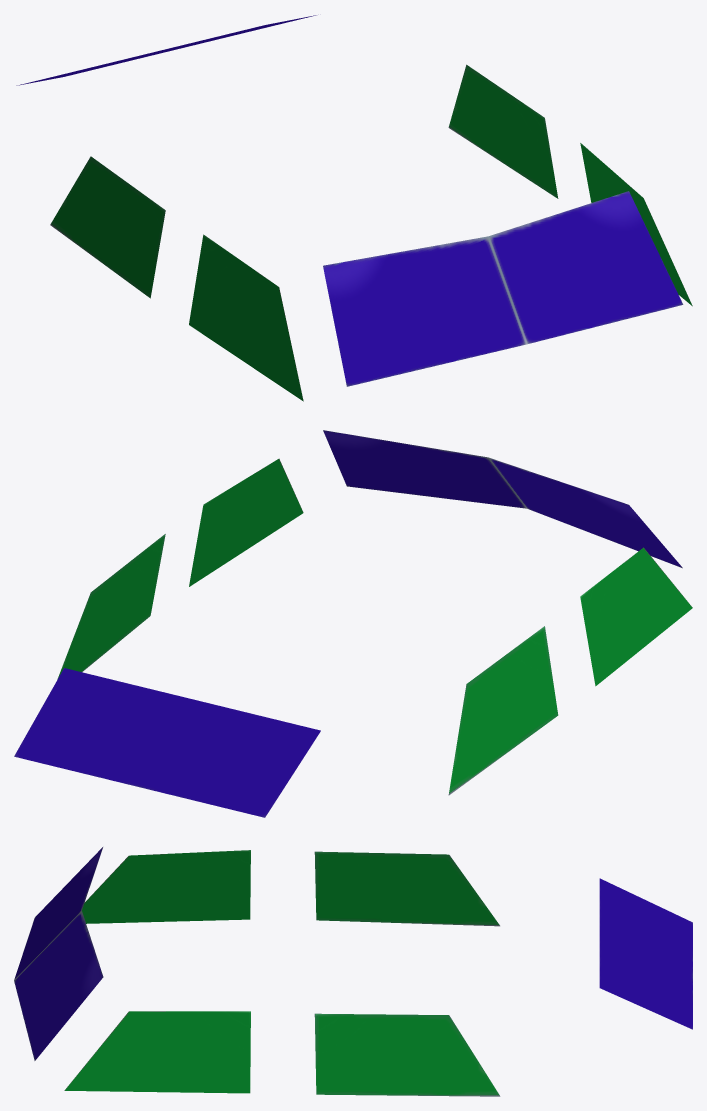
File: vehicle_windows.obj
3 views of the same model, one above another, from view 1: azimuth 30°, elevation 25°; view 2: azimuth 150°, elevation 25°; view 3: azimuth 270°, elevation 25° (orthographic). The views are drawn at different scales.
Visible parts, largest first — view 1: car_windows.002; view 2: car_windows.002; view 3: car_windows.002.
Boxes of the visible parts, <box> form: car_windows.002: <box>16,15,692,401</box>; car_windows.002: <box>14,430,692,817</box>; car_windows.002: <box>14,847,692,1096</box>.
Size of the model in its own units: 3.22 by 0.8665 by 5.29.
Materials: 1 (1 with a texture image).
